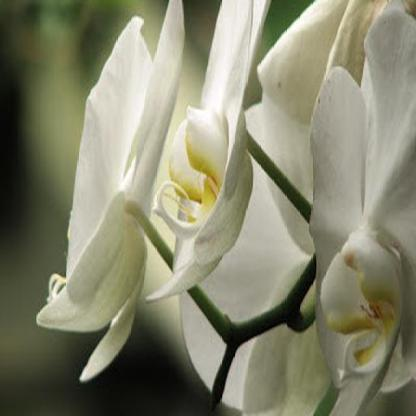ANGGREK: (63, 13, 412, 399)
